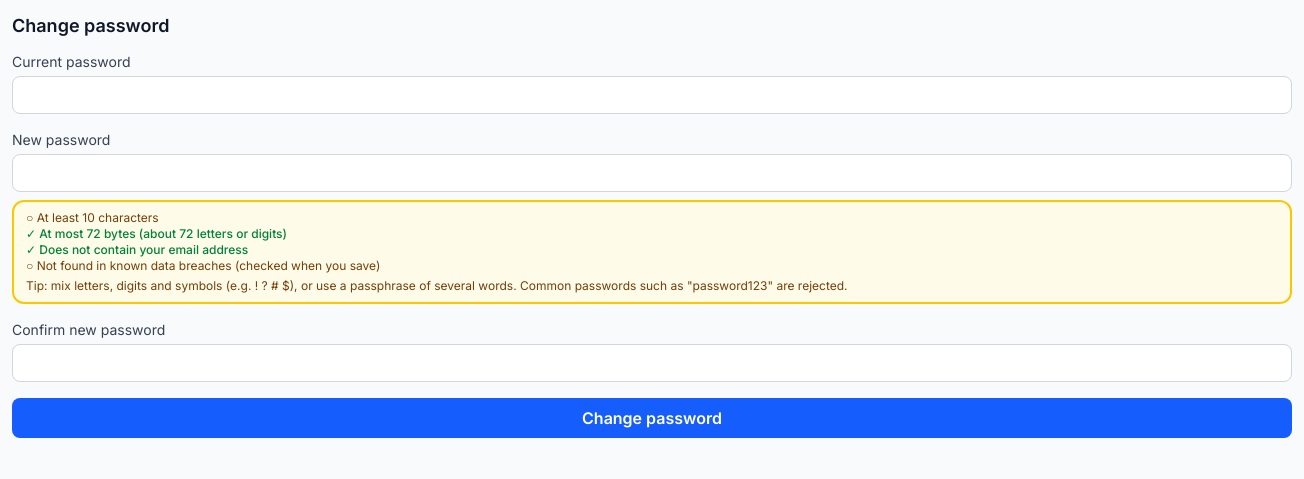
it: ChangePasswordForm › a short new password sends no request
Type "old password 1" into the password field with test id "change-password-current".
click(652, 95); type("old password 1")  # box [12, 76, 1292, 114]
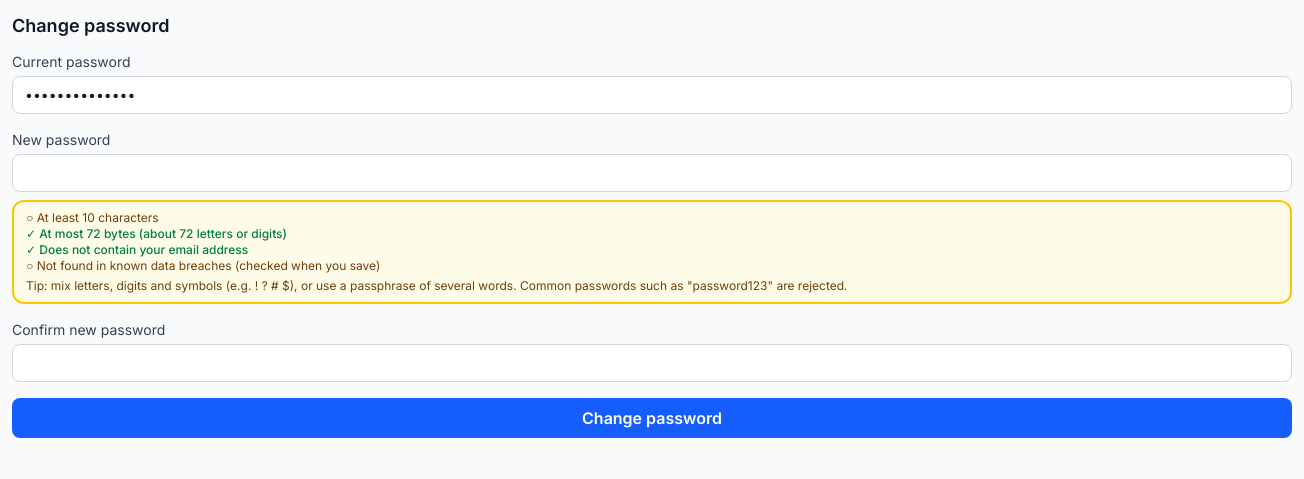
Type "short" into the password field with test id "change-password-new".
click(652, 173); type("short")  # box [12, 154, 1292, 192]
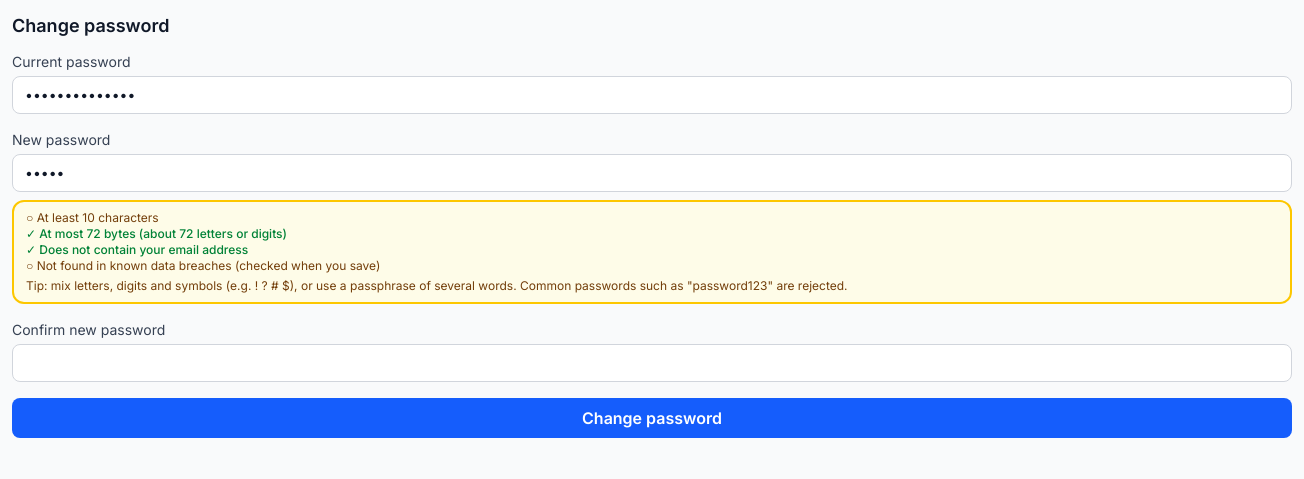
Type "short" into the password field with test id "change-password-confirm".
click(652, 363); type("short")  # box [12, 344, 1292, 382]
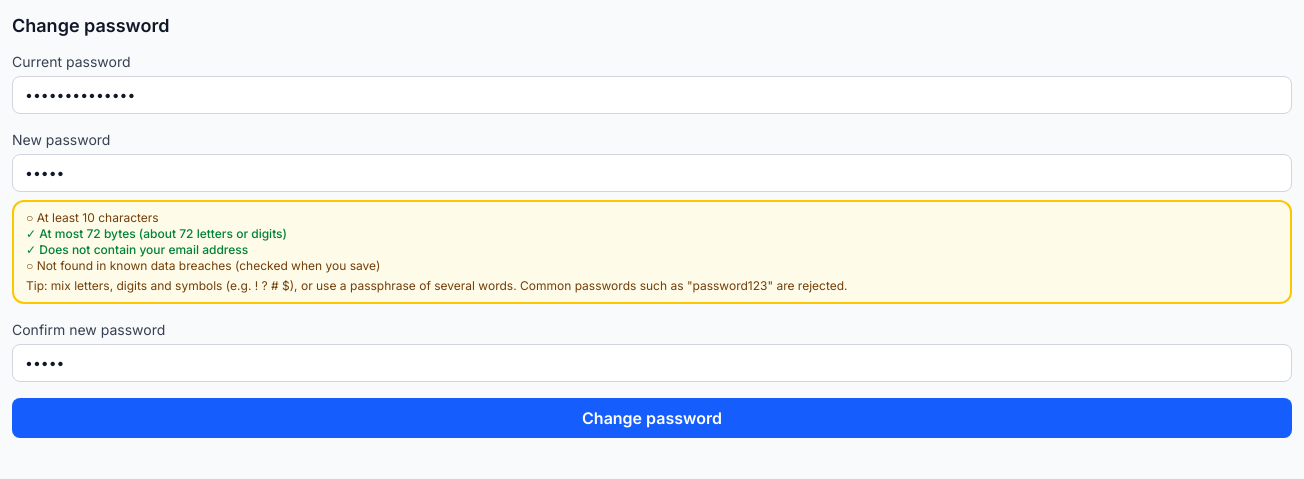
Click the button with test id "change-password-submit".
click(652, 418)  # box [12, 398, 1292, 438]
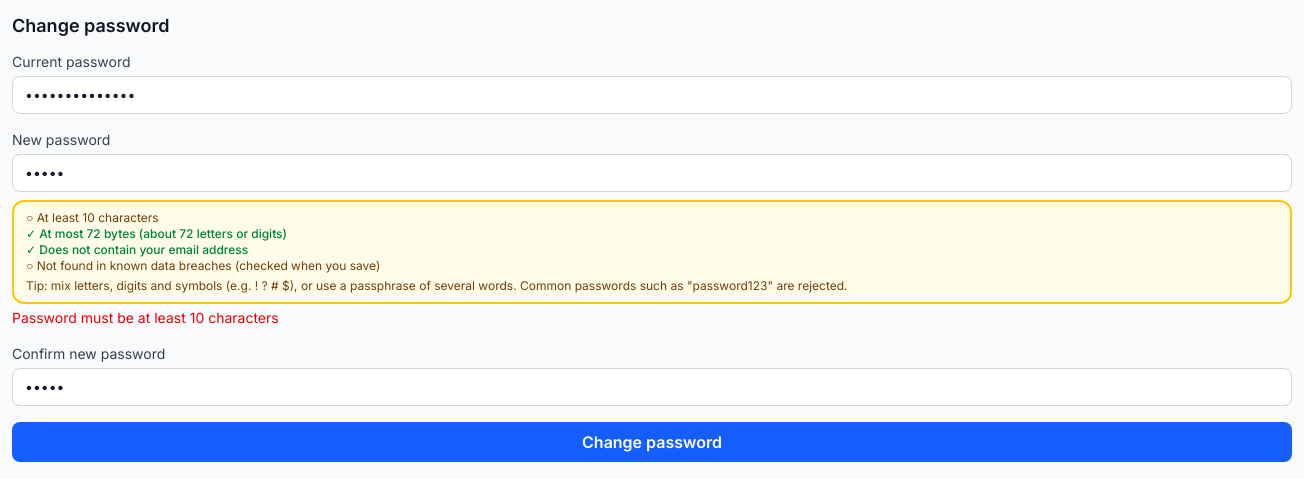
Check: the message with test id "field-error-newPassword" shows "at least 10", box [12, 309, 279, 326]
